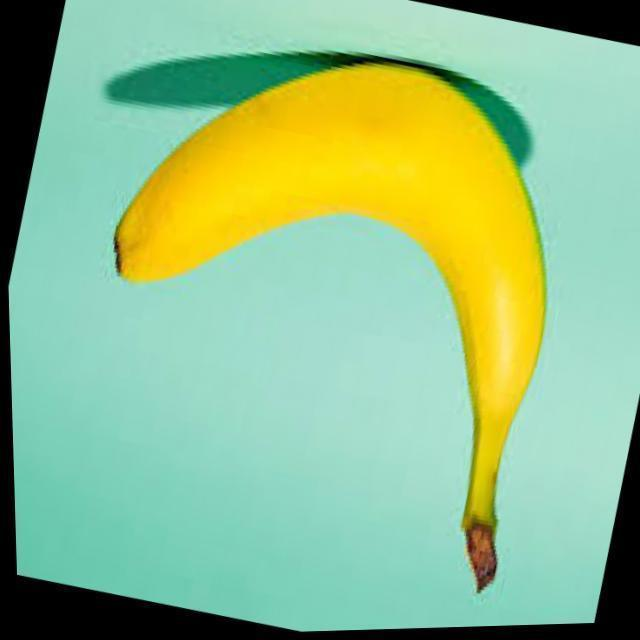Banana: (111, 62, 547, 597)
